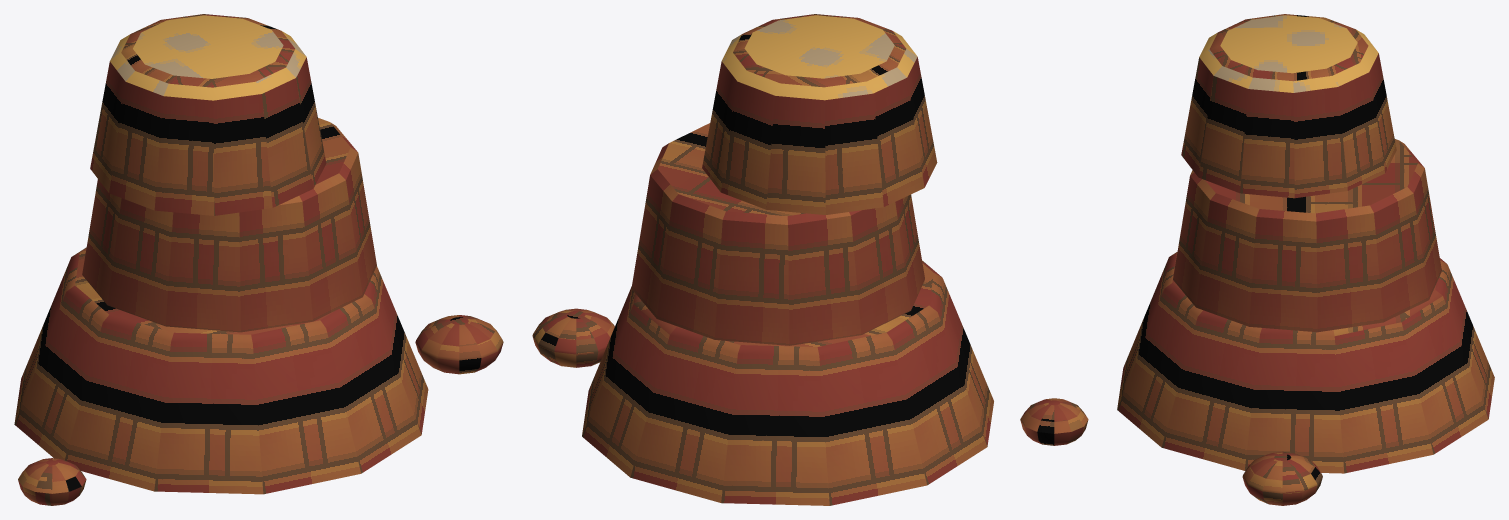
The model's file is spec_desert_rock_1.glb.
3 views of the same model, side by side, from view 1: azimuth 30°, elevation 25°; view 2: azimuth 150°, elevation 25°; view 3: azimuth 270°, elevation 25° (orthographic). The views are drawn at different scales.
Visible parts, largest first — view 1: spec_desert_rock_1; view 2: spec_desert_rock_1; view 3: spec_desert_rock_1.
Boxes of the visible parts, x1,y1,x2,y2 form: spec_desert_rock_1: [14, 14, 503, 505]; spec_desert_rock_1: [532, 14, 1088, 505]; spec_desert_rock_1: [1117, 14, 1494, 505].
Bounding box in the file's own units: 3.6 × 2.53 × 2.52.
Materials: 2 (2 with a texture image).
